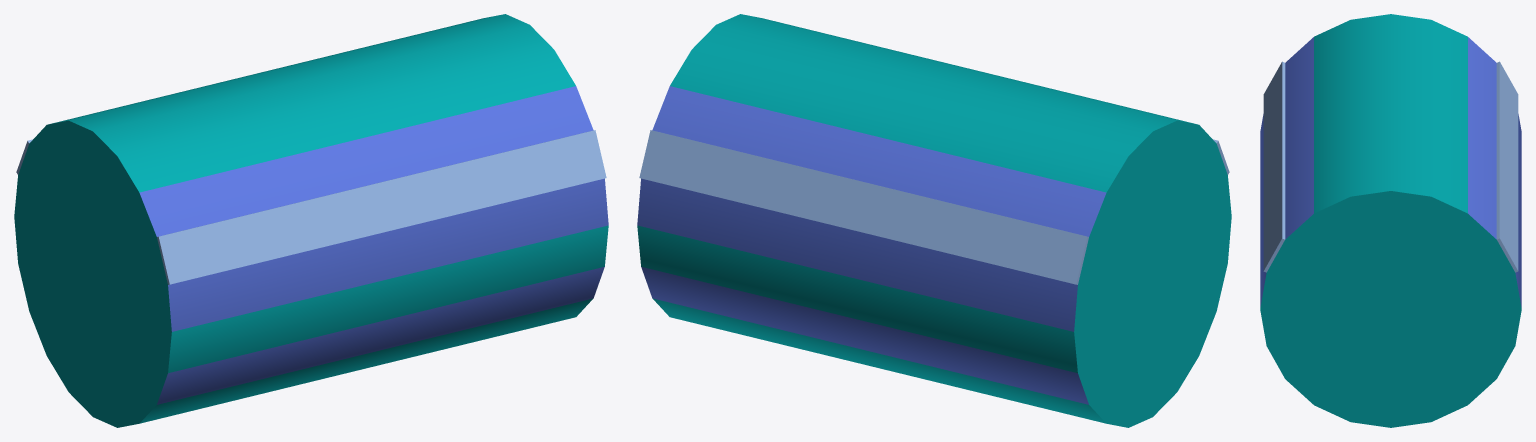
The model's file is br-c-tube-aqua-hori.fbx.
The picture shows the model from 3 angles, left to right: view 1: azimuth 30°, elevation 25°; view 2: azimuth 150°, elevation 25°; view 3: azimuth 270°, elevation 25°; orthographic projection. The views are drawn at different scales.
Visible parts, largest first — view 1: tube_hori_aqua; view 2: tube_hori_aqua; view 3: tube_hori_aqua.
Part boxes in pixels (bbox=[...]): tube_hori_aqua: bbox=[14, 14, 608, 427]; tube_hori_aqua: bbox=[637, 14, 1231, 427]; tube_hori_aqua: bbox=[1260, 14, 1521, 427].
Size of the model in its own units: 1 by 0.625 by 0.625.
